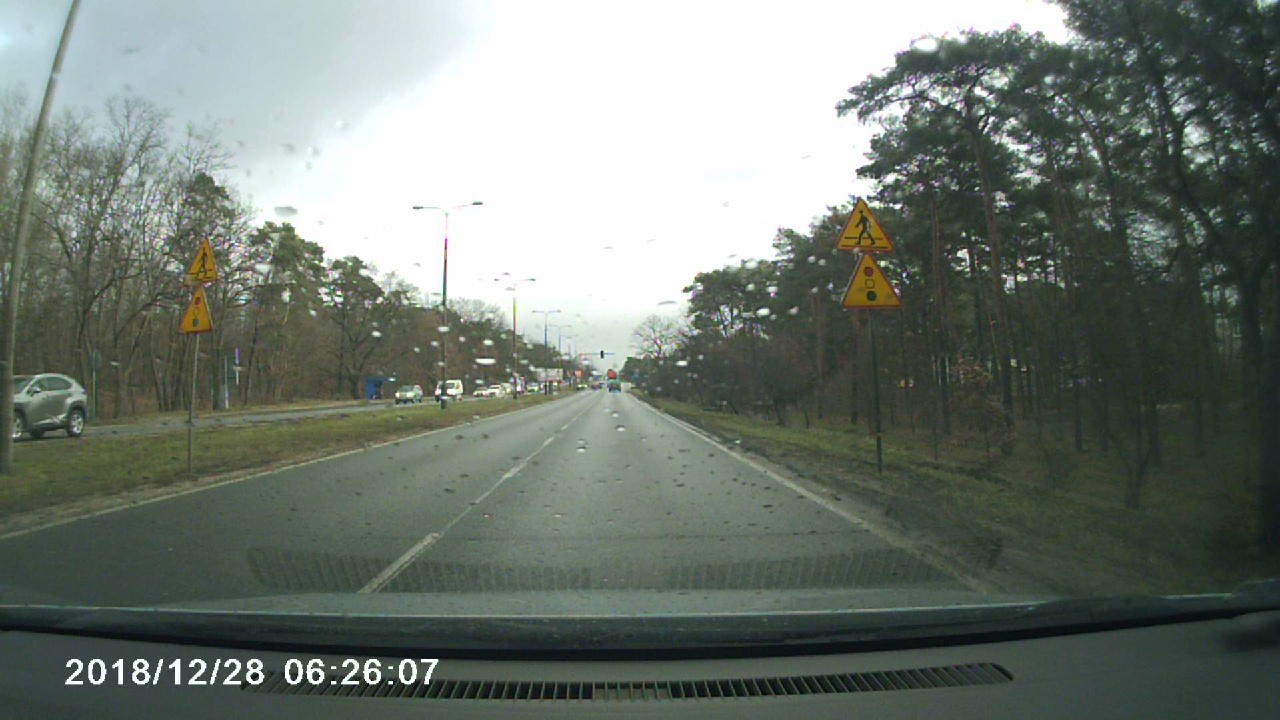A16: (831, 198, 901, 254), (181, 235, 226, 283)
A29: (837, 254, 903, 309), (174, 285, 223, 333)
